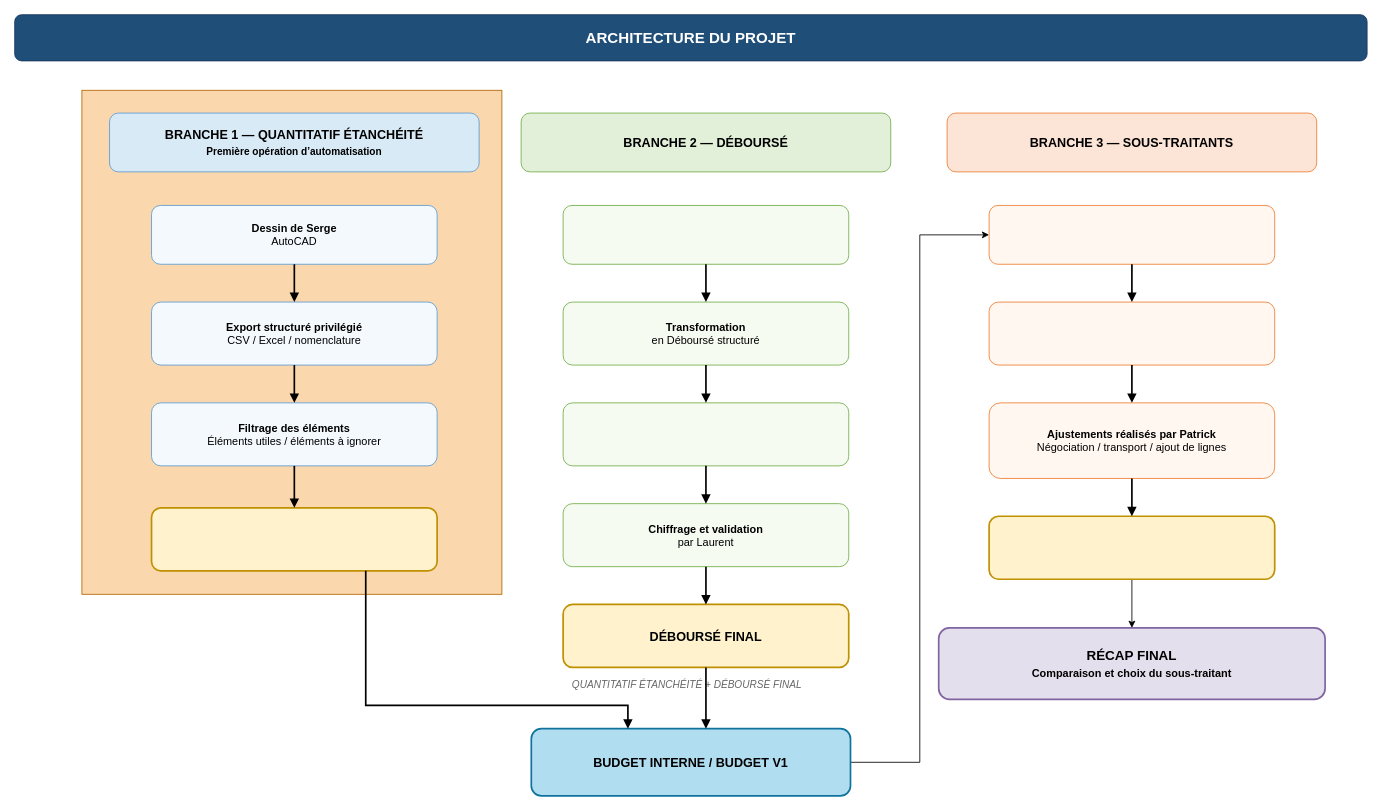
Some shapes in this 1382 by 811 pixel diagram are drawn without their labels. Here are the shapes that lost their labels. From the top down, the centre of each, then its label:
At point 705,234: "DPGF reçu du client".
At point 1131,234: "Base de prix des sous-traitants".
At point 1131,333: "Import de la base initiale non modifiable".
At point 705,434: "Création d’une bibliothèque de travaux à chiffrer".
At point 294,539: "QUANTITATIF ÉTANCHÉITÉ".
At point 1131,547: "PRIX SOUS-TRAITANTS AJUSTÉS".
